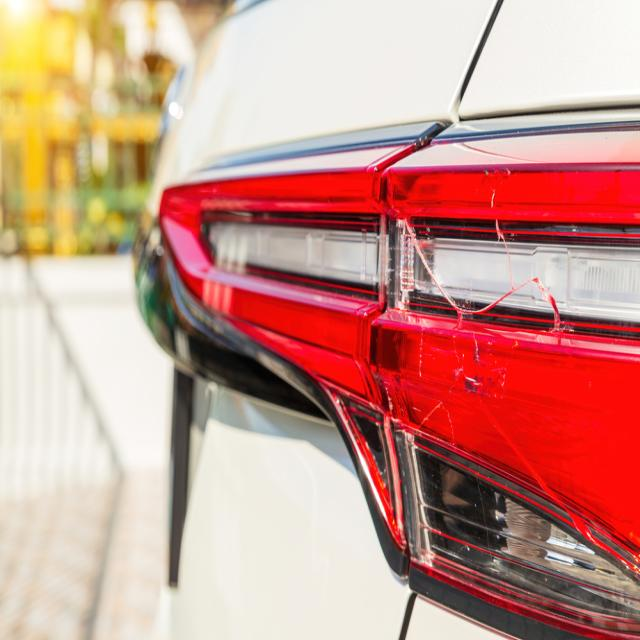Phare abime: (379, 179, 595, 521)
